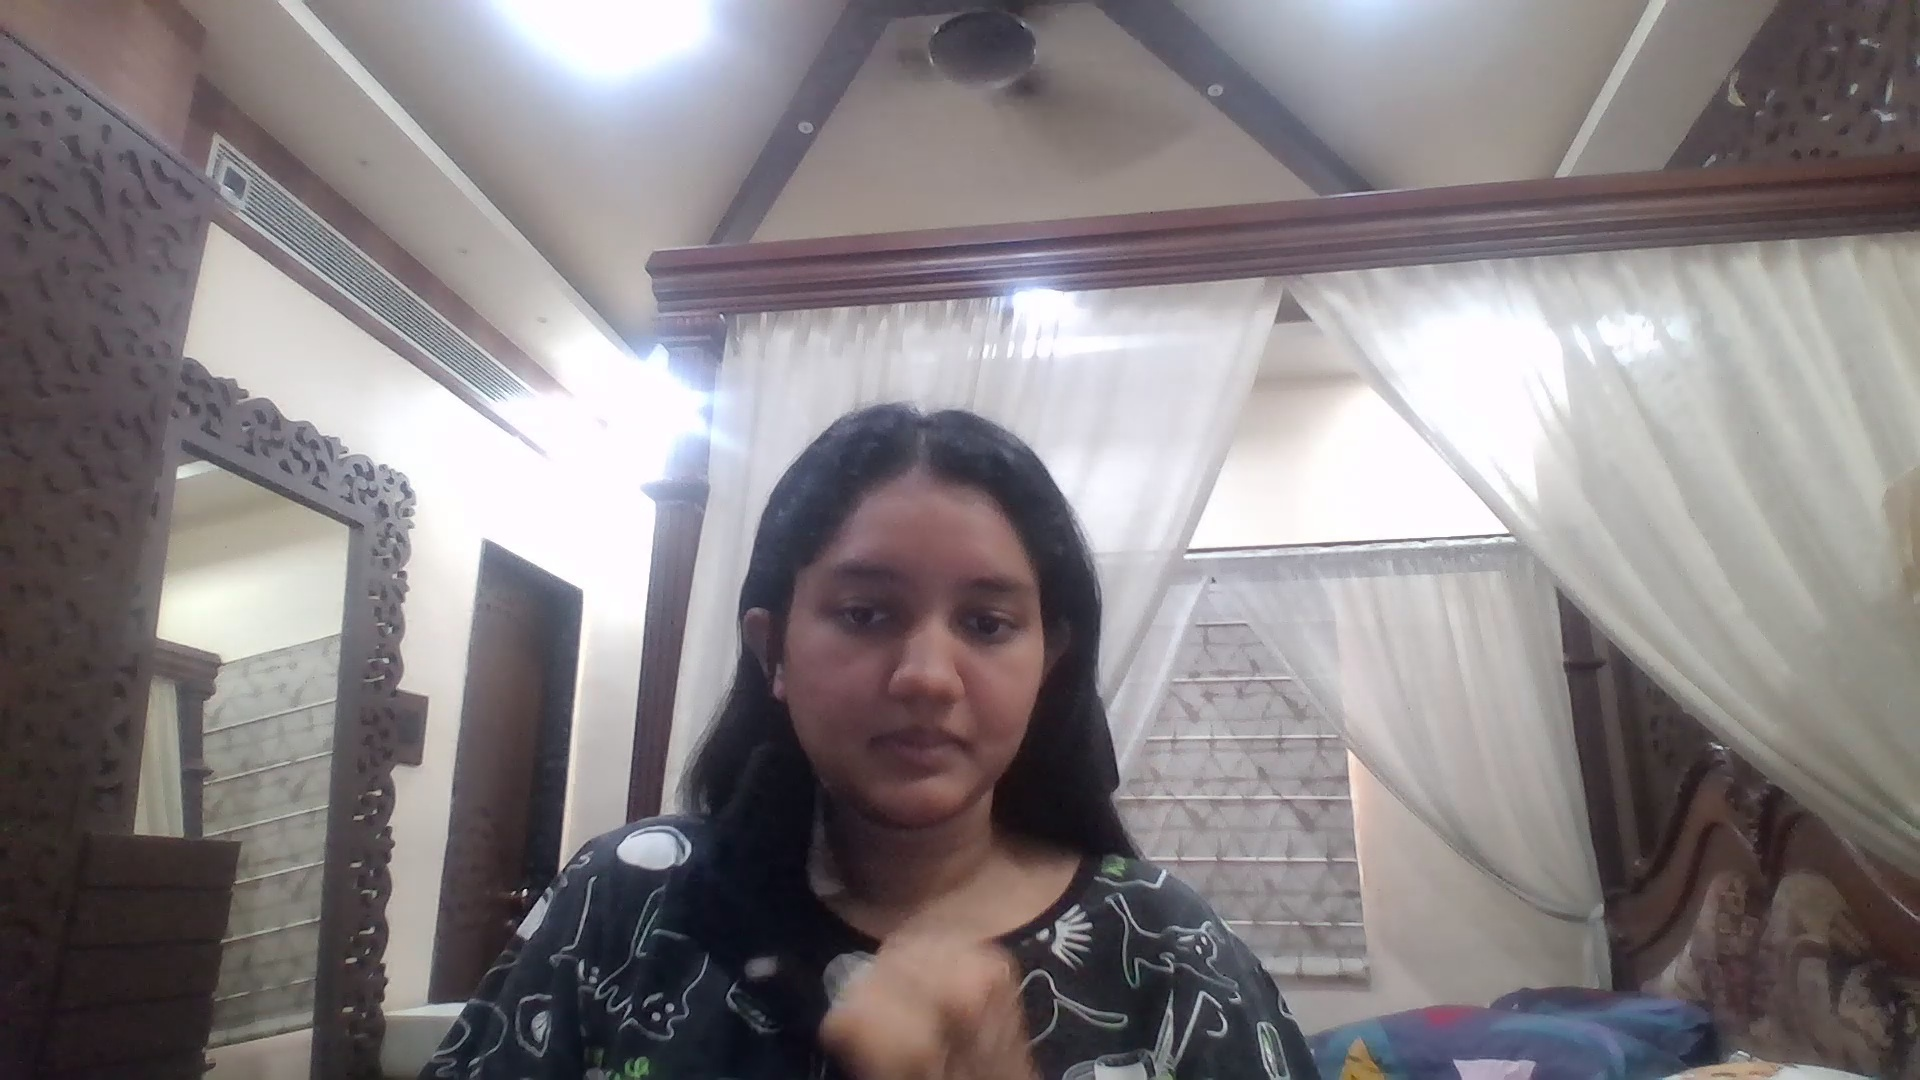No Mask: (778, 648, 1042, 833)
